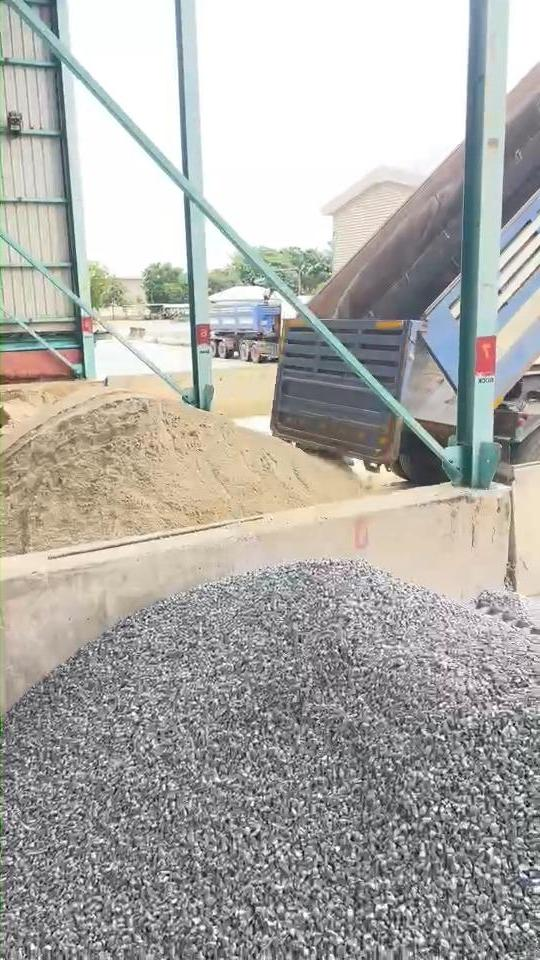gravel: (4, 561, 540, 959)
sand: (3, 385, 363, 554), (2, 381, 96, 421)
